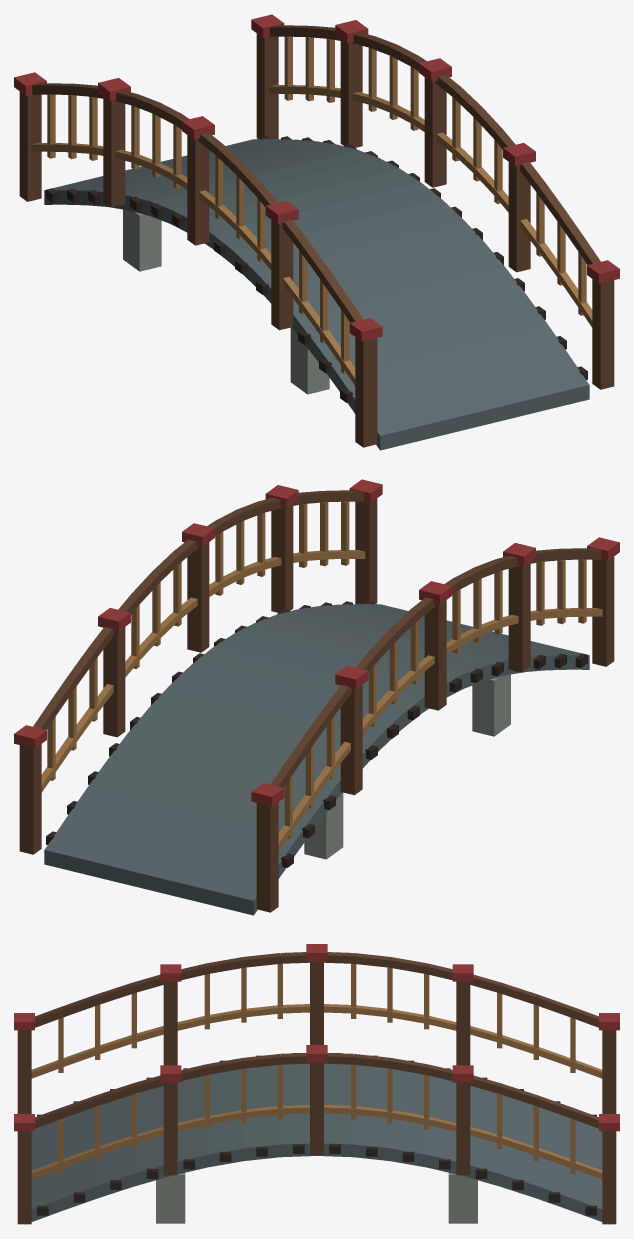
Rendered from PirateCove_ArchedBridge_Showcase.glb.
3 renders of one model, top to bottom at view 1: azimuth 30°, elevation 25°; view 2: azimuth 150°, elevation 25°; view 3: azimuth 270°, elevation 25°, orthographic. The views are drawn at different scales.
Parts seen in each view (by area): view 1: PirateCove_ArchedBridge_Showcase; view 2: PirateCove_ArchedBridge_Showcase; view 3: PirateCove_ArchedBridge_Showcase.
Part boxes in pixels (x1,y1,x2,y2): PirateCove_ArchedBridge_Showcase: (14, 14, 619, 450); PirateCove_ArchedBridge_Showcase: (14, 479, 619, 915); PirateCove_ArchedBridge_Showcase: (14, 944, 619, 1224).
Bounding box in the file's own units: 2.22 × 1.71 × 5.18.
